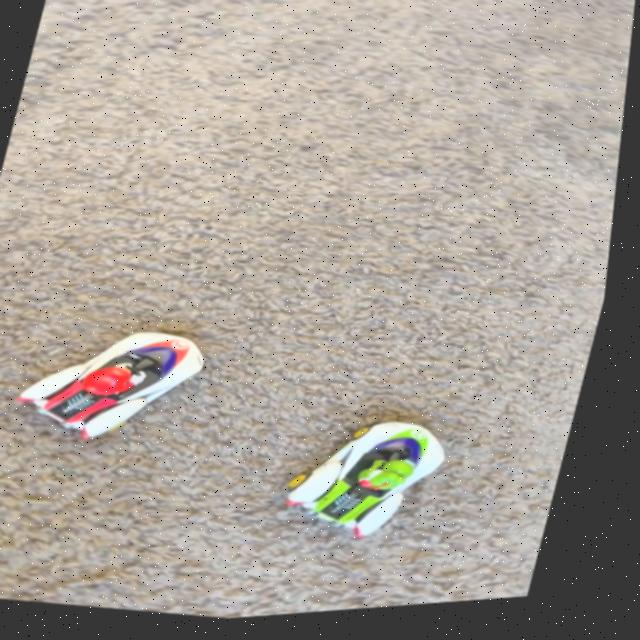mario: (0, 301, 237, 478)
yoshi: (264, 396, 482, 577)
